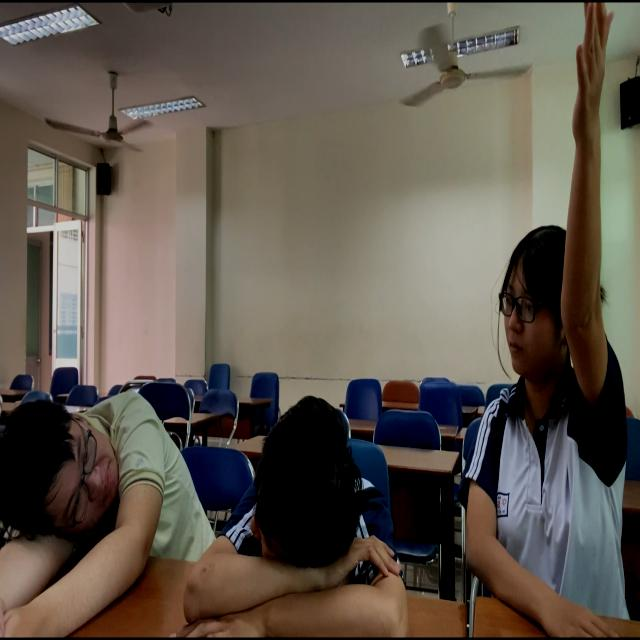raise_hand: (469, 1, 640, 640)
sleep: (186, 373, 410, 640), (1, 331, 213, 602)
